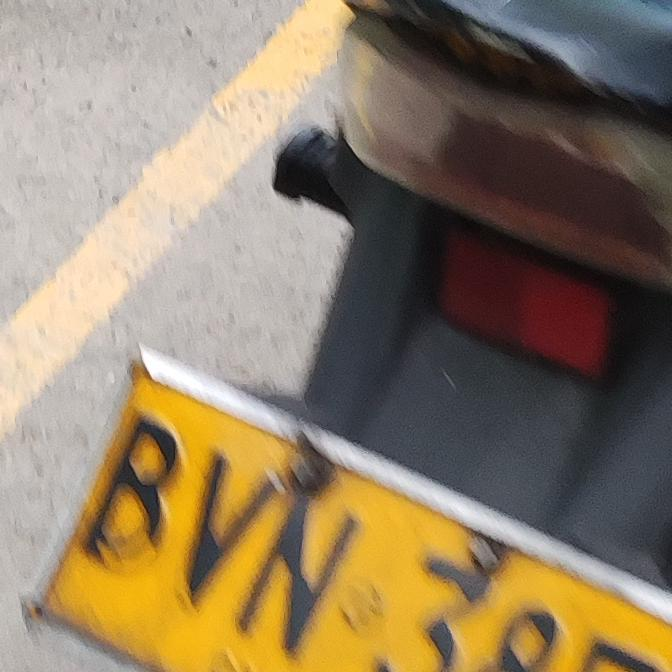plates: (28, 354, 672, 672)
